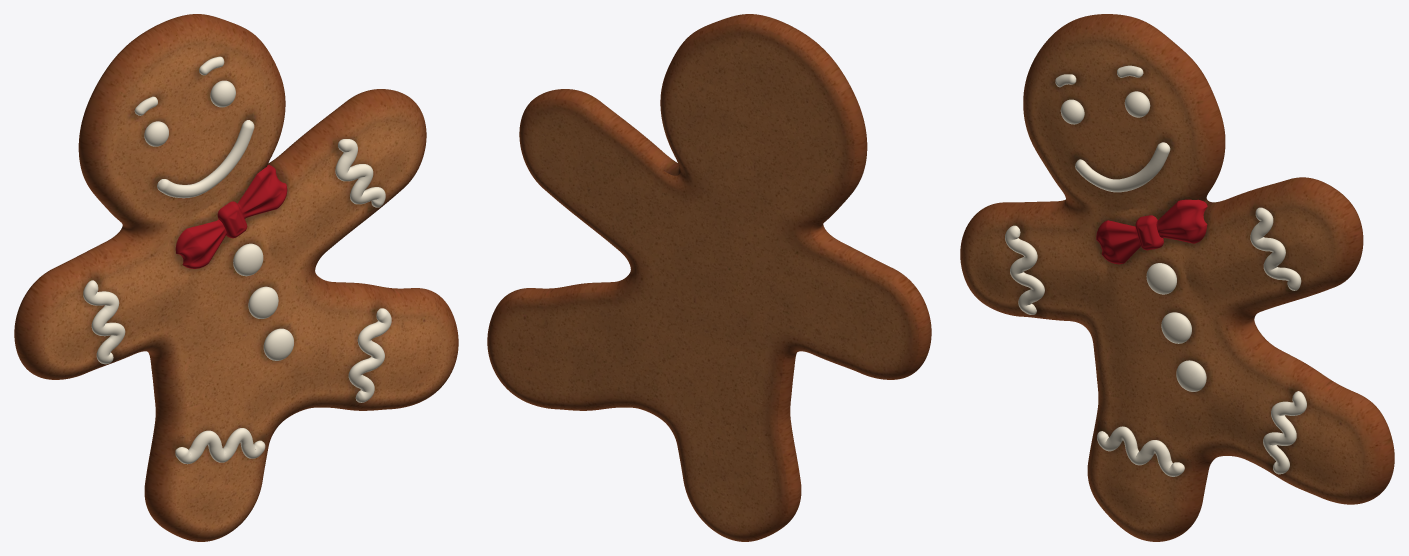
Rendered from gingerbread_cookie.glb.
3 views of the same model, side by side, from view 1: azimuth 30°, elevation 25°; view 2: azimuth 150°, elevation 25°; view 3: azimuth 330°, elevation 25° (orthographic). The views are drawn at different scales.
Visible parts, largest first — view 1: cookie_body, icing_mouth, bow_wing_left, icing_eye_left; view 2: cookie_body; view 3: cookie_body, icing_mouth, bow_wing_left, icing_eye_left.
Part boxes in pixels (x1,y1,x2,y2): cookie_body: (14,14,458,541); icing_mouth: (83,56,391,464); bow_wing_left: (175,165,287,268); icing_eye_left: (144,80,293,360); cookie_body: (487,14,931,541); cookie_body: (960,14,1394,541); icing_mouth: (1005,65,1306,476); bow_wing_left: (1096,199,1207,264); icing_eye_left: (1060,91,1206,391).
Size of the model in its own units: 0.1133 by 0.13 by 0.0116.
Materials: 4 (2 with a texture image).
